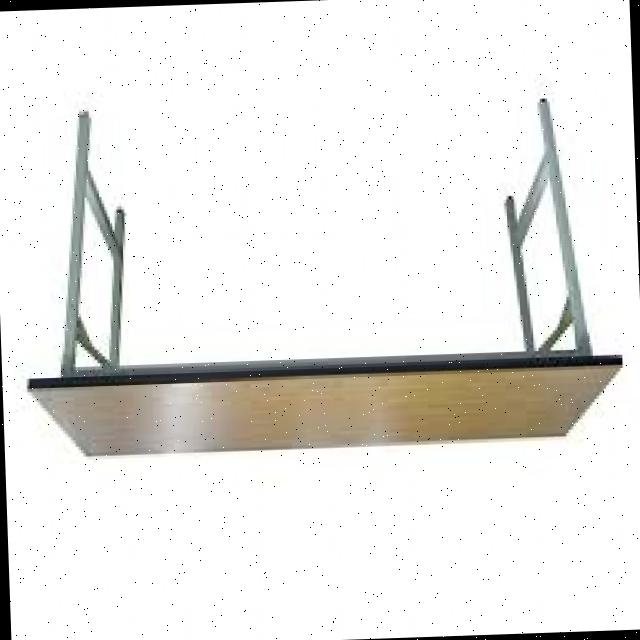Table: (9, 89, 626, 467)
